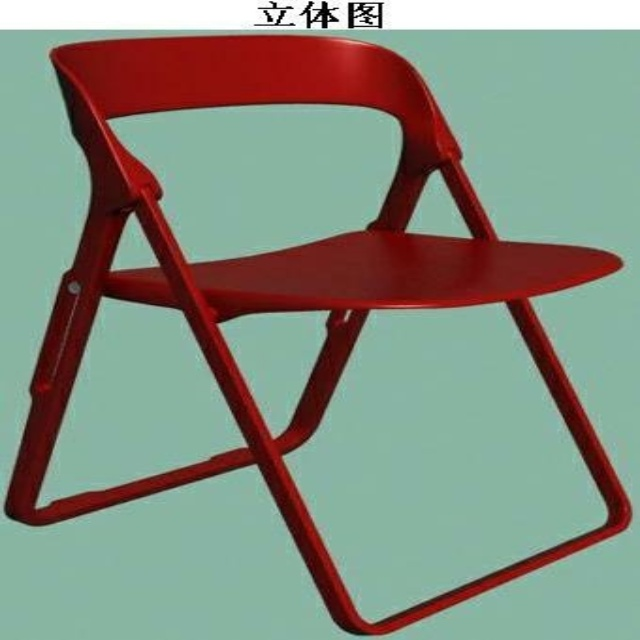obstacle: (6, 35, 629, 634)
